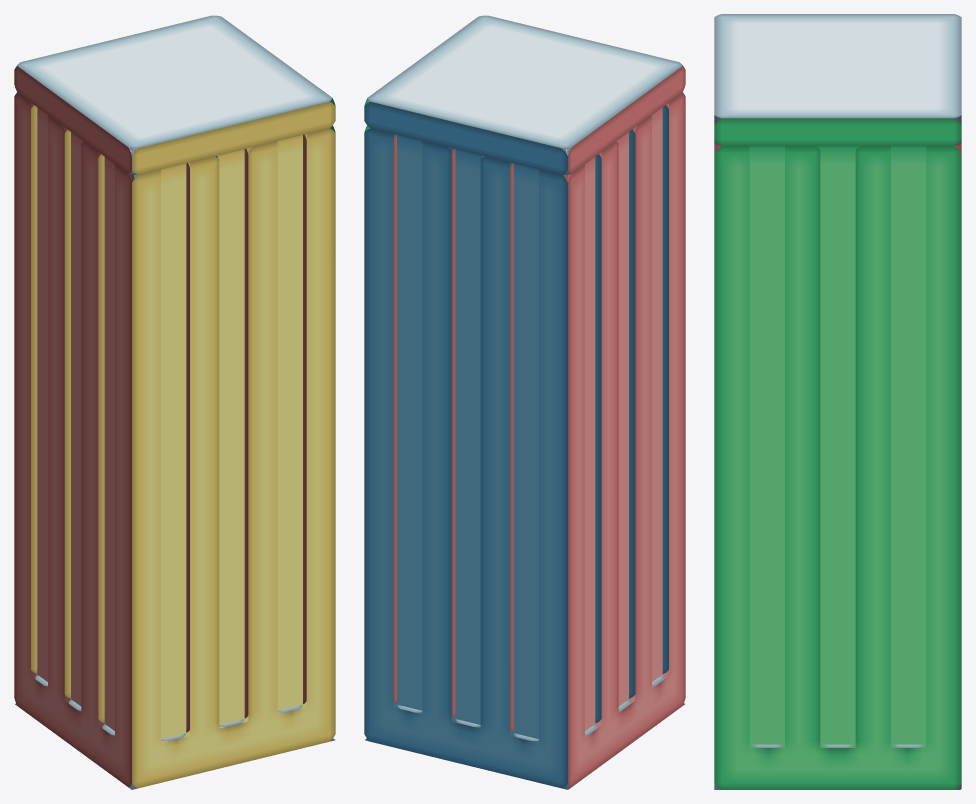
Rendered from building2.fbx.
3 renders of one model, left to right at view 1: azimuth 30°, elevation 25°; view 2: azimuth 150°, elevation 25°; view 3: azimuth 270°, elevation 25°, orthographic. The views are drawn at different scales.
Visible parts, largest first — view 1: cuboid_1, cuboid; view 2: cuboid_1, cuboid; view 3: cuboid_1, cuboid.
Boxes of the visible parts, x1,y1,x2,y2 form: cuboid_1: (14,15,335,789); cuboid: (31,103,306,742); cuboid_1: (364,15,685,789); cuboid: (393,103,668,742); cuboid_1: (714,14,961,789); cuboid: (749,146,926,747).
Bounding box in the file's own units: 100 × 300 × 100.
Materials: 2 (2 with a texture image).
